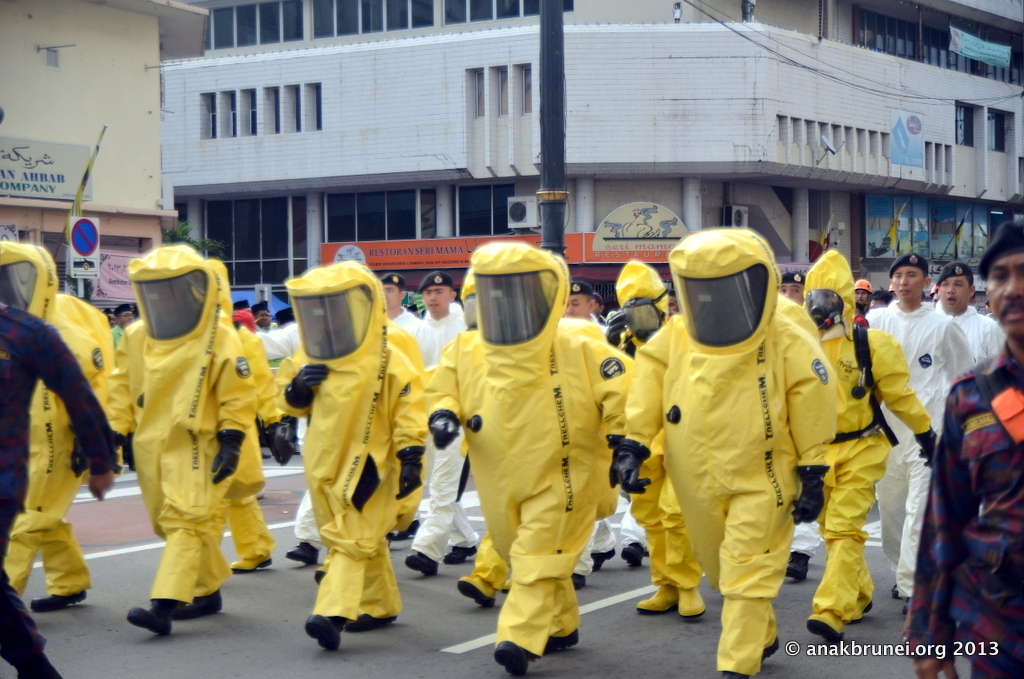Person: (0, 222, 1024, 678), (897, 219, 1024, 679)
